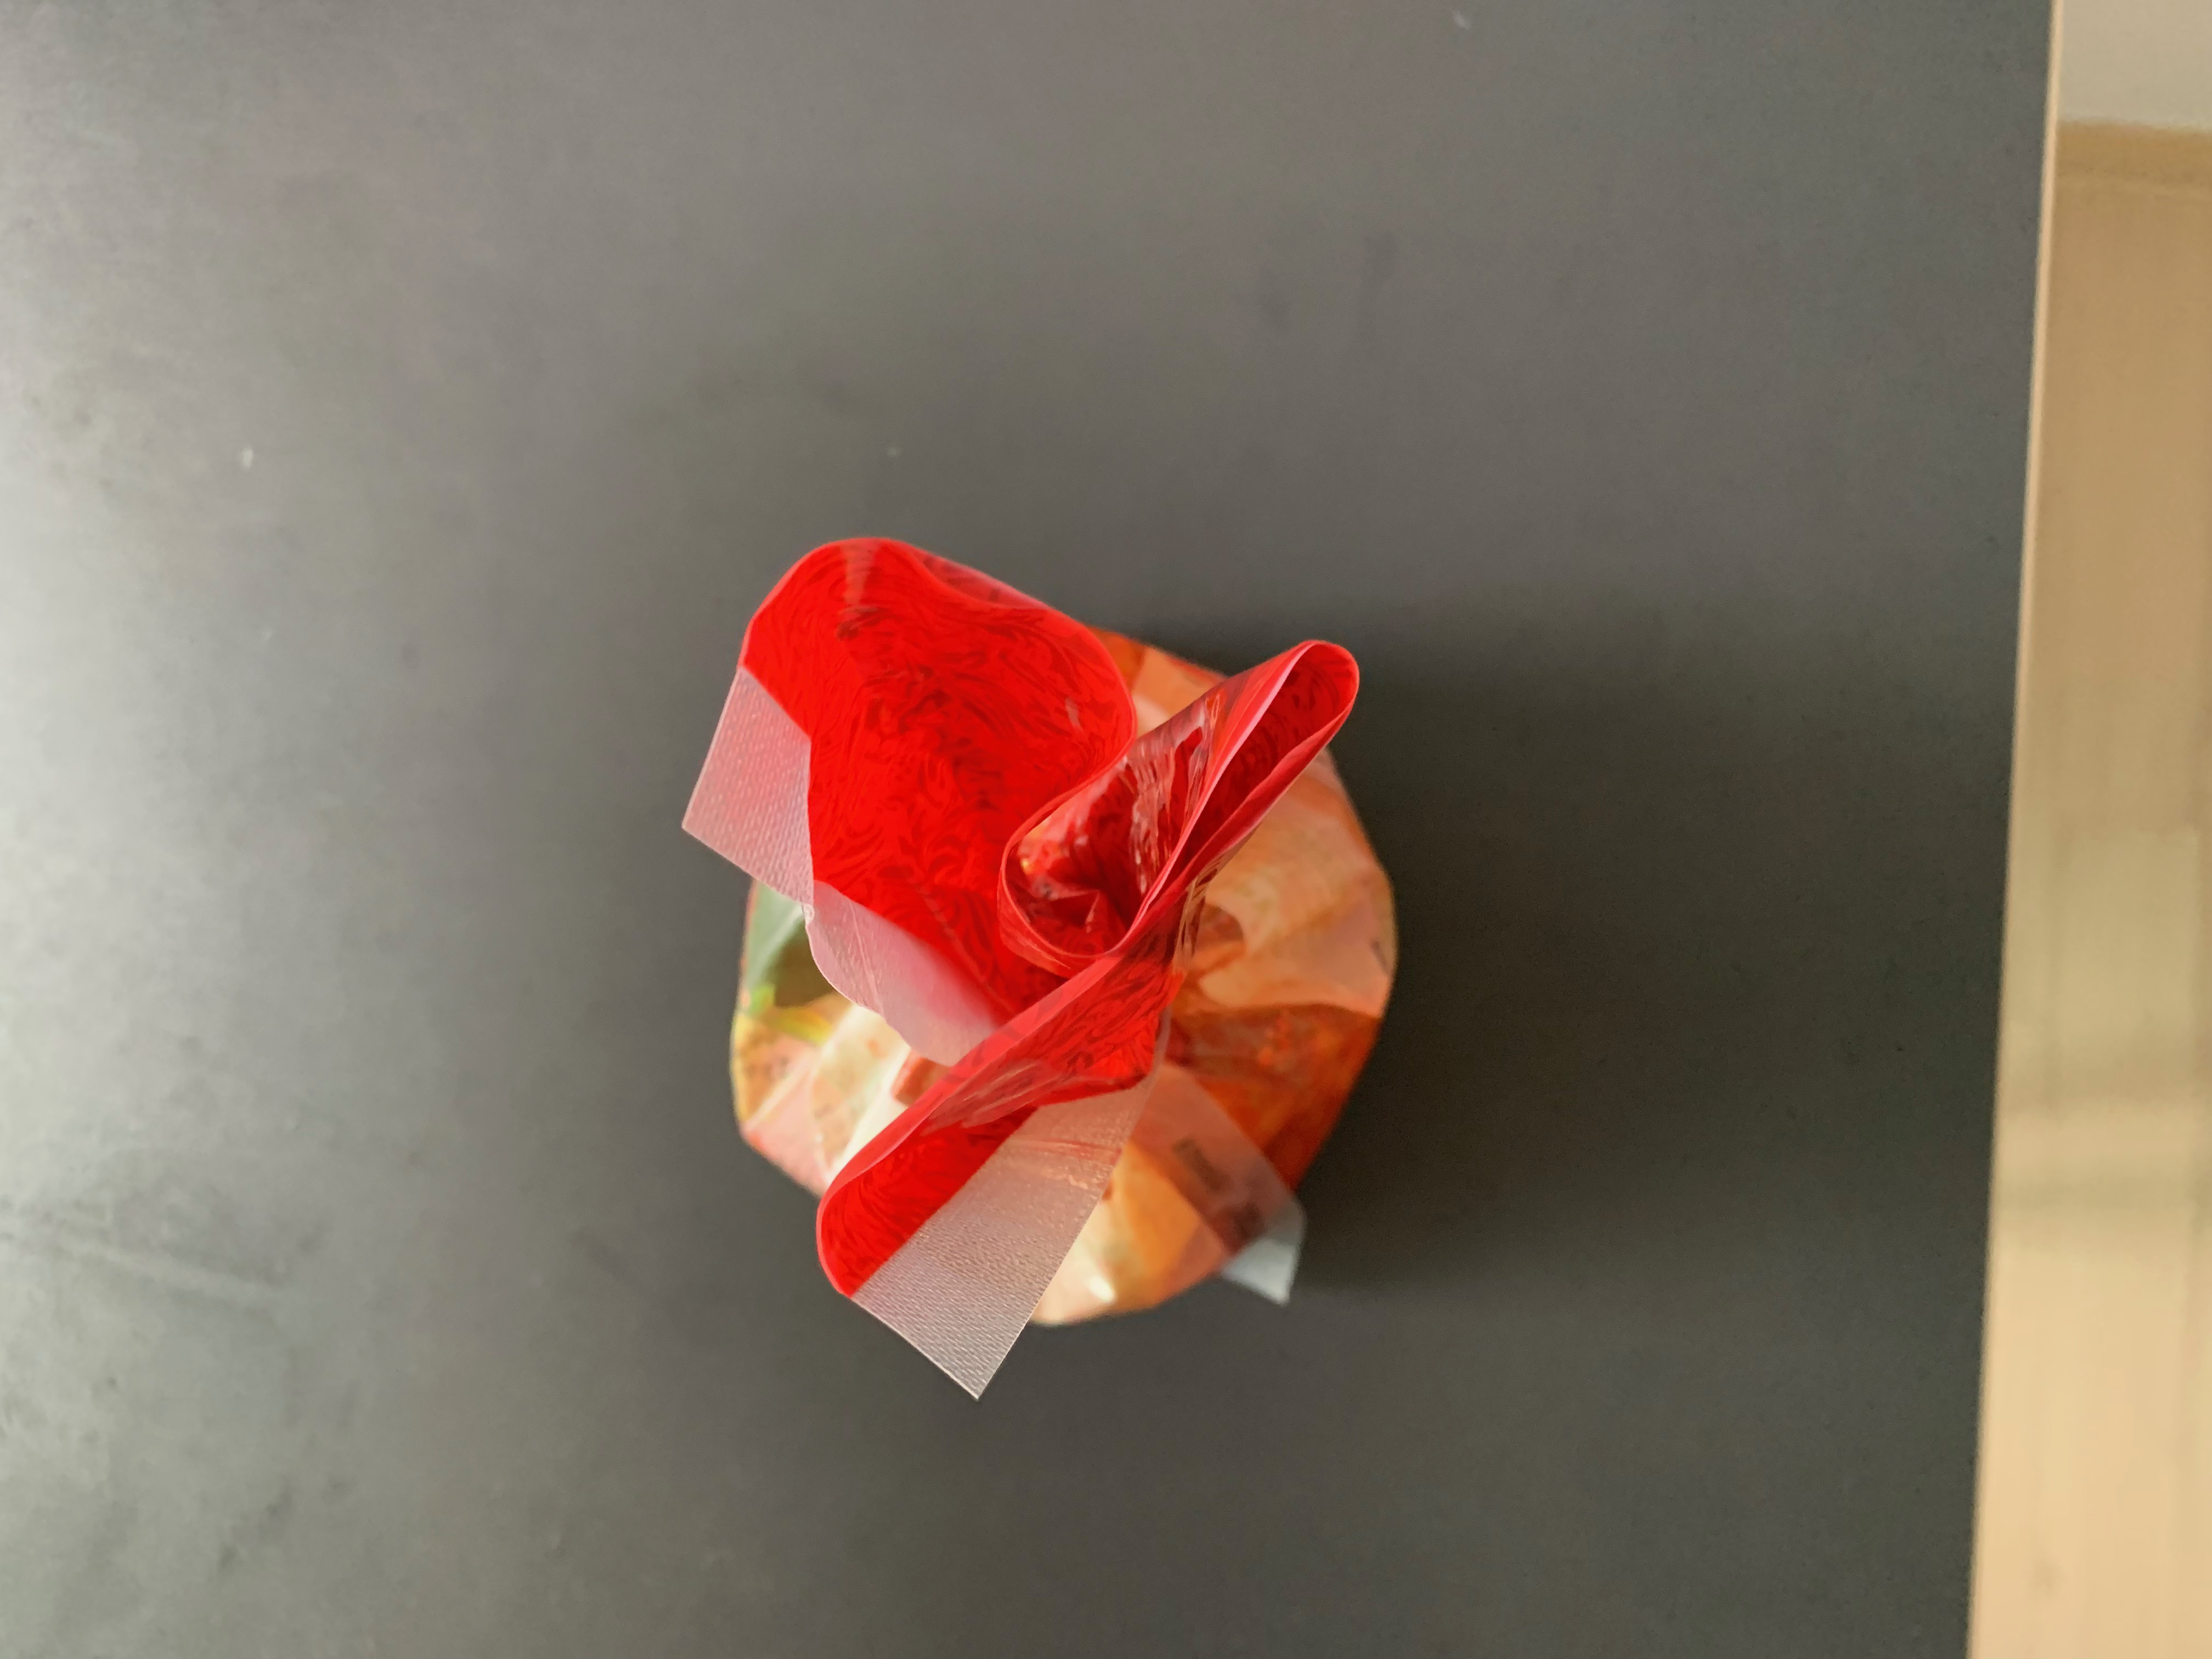kimchi: (726, 535, 1399, 1328)
